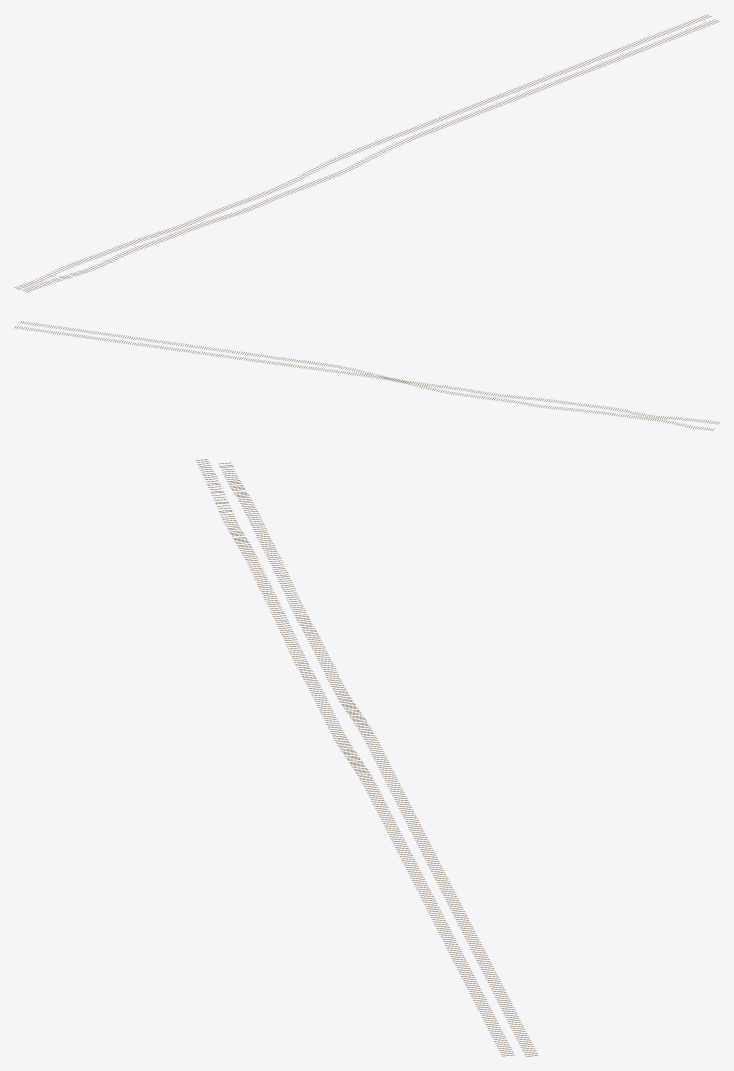
Rendered from c_1624_17835_rail_sleeper.glb.
3 views of the same model, one above another, from view 1: azimuth 30°, elevation 25°; view 2: azimuth 150°, elevation 25°; view 3: azimuth 270°, elevation 25° (orthographic). The views are drawn at different scales.
Visible parts, largest first — view 1: geometry_0; view 2: geometry_0; view 3: geometry_0.
Part boxes in pixels (<box>): geometry_0: <box>14,14,719,292</box>; geometry_0: <box>14,321,719,430</box>; geometry_0: <box>195,459,538,1056</box>.
Bounding box in the file's own units: 256 × 3.07 × 61.06.
